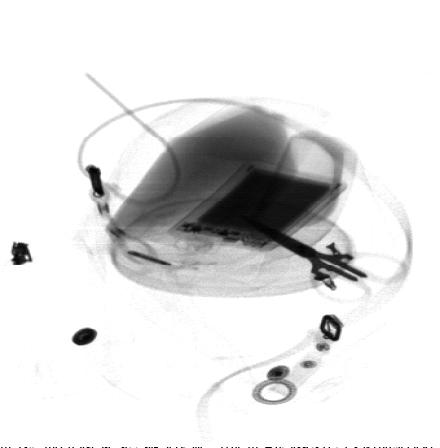Powerbank: (165, 158, 347, 255)
Scissors: (237, 210, 403, 307)
